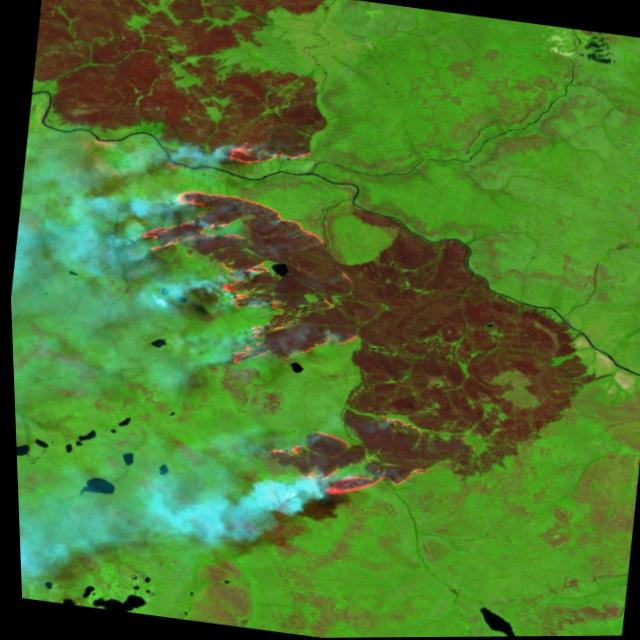fire: (93, 168, 472, 529), (206, 118, 323, 177)
